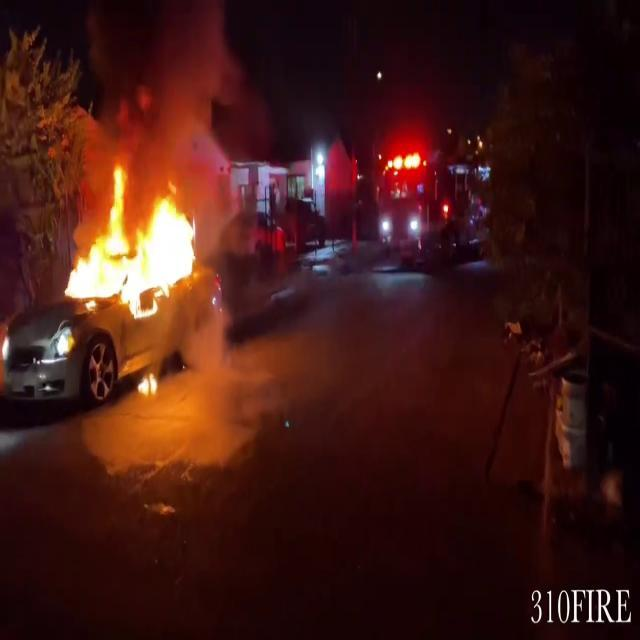Fire: (58, 156, 208, 318)
Smoke: (87, 0, 246, 181)
